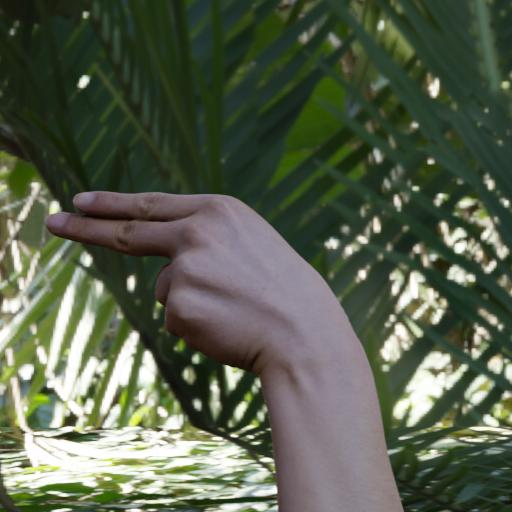H: (29, 178, 374, 400)
